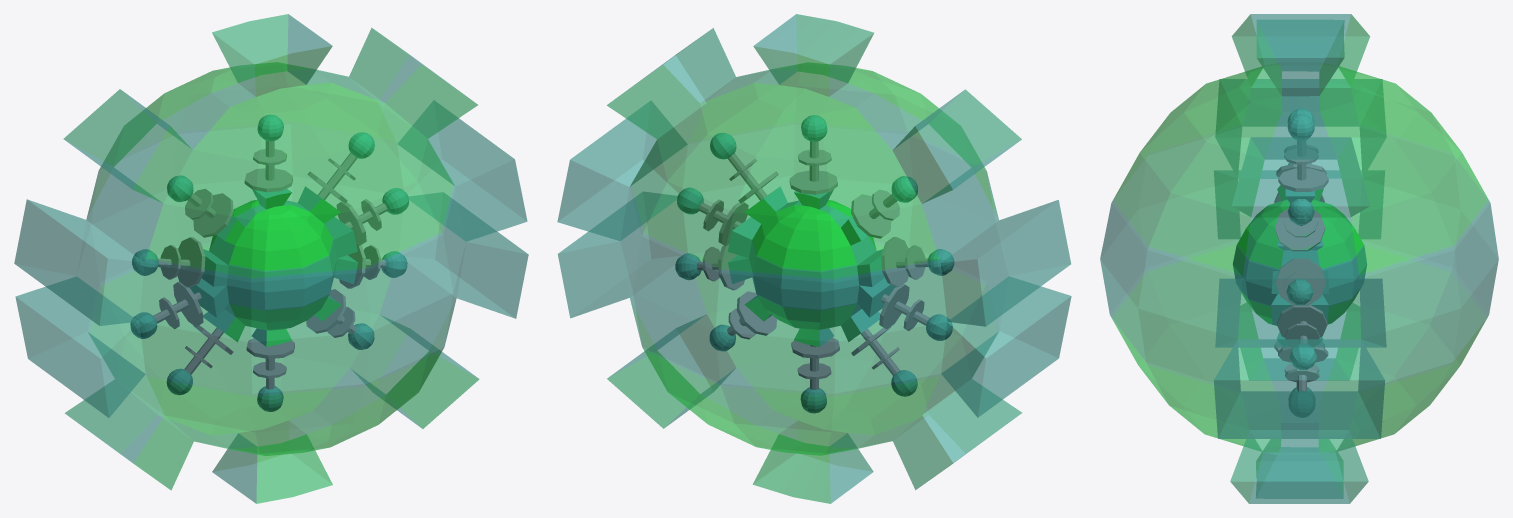
File: Shield2.fbx
The picture shows the model from 3 angles, left to right: view 1: azimuth 30°, elevation 25°; view 2: azimuth 150°, elevation 25°; view 3: azimuth 270°, elevation 25°; orthographic projection.
Parts seen in each view (by area): view 1: Shieldbody1, polySurface80, Shieldbody2; view 2: Shieldbody1, polySurface80, Shieldbody2; view 3: Shieldbody1, polySurface80, Shieldbody2.
Boxes of the visible parts, left/top/right/bottom form: Shieldbody1: left=14, top=14, right=528, bottom=503; polySurface80: left=130, top=114, right=408, bottom=411; Shieldbody2: left=190, top=186, right=357, bottom=346; Shieldbody1: left=557, top=14, right=1071, bottom=503; polySurface80: left=675, top=115, right=954, bottom=413; Shieldbody2: left=728, top=186, right=895, bottom=346; Shieldbody1: left=1100, top=14, right=1498, bottom=503; polySurface80: left=1274, top=108, right=1328, bottom=417; Shieldbody2: left=1233, top=185, right=1366, bottom=346.
Bounding box in the file's own units: 1.94 × 1.93 × 1.56.
Materials: 4 (4 with a texture image).
